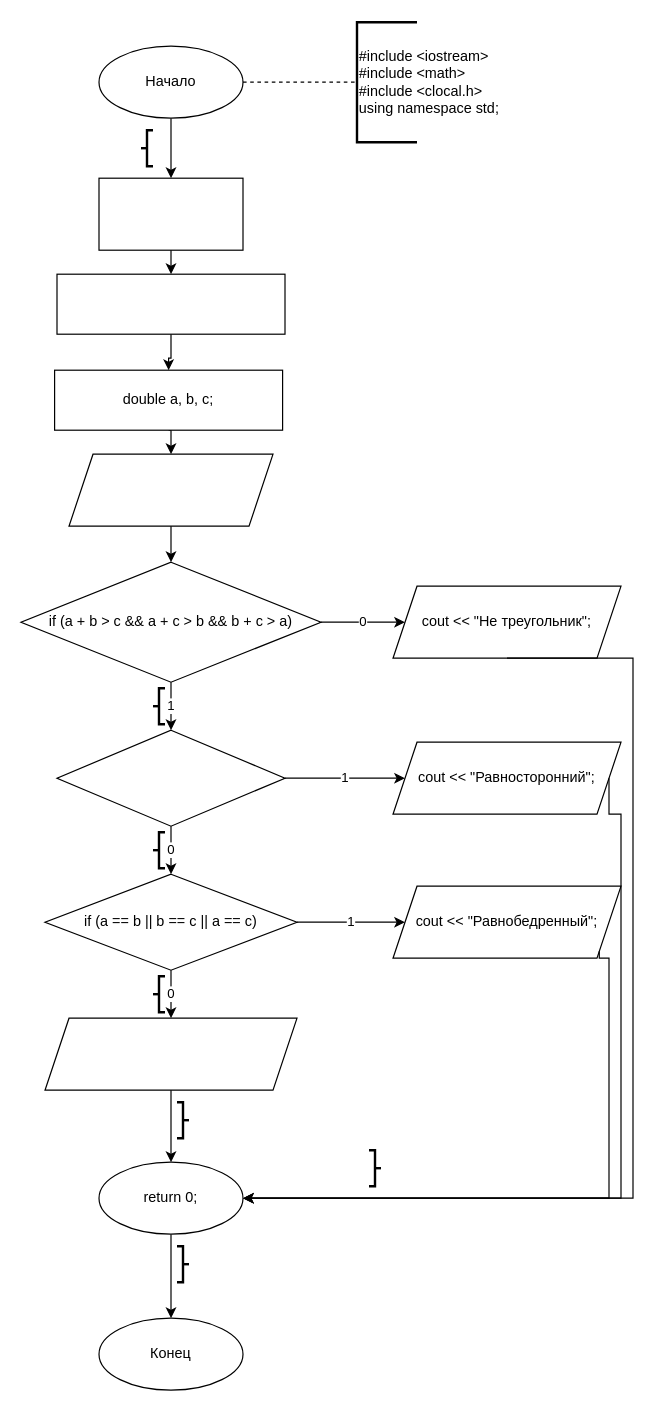
Some shapes in this 664 by 1411 pixel diagram are drawn without their labels. The centre of each missing label's shape, as x and y in pixels:
cin >> a >> b >> c;: (x=170, y=489)
cout << "Обычный треугольник";: (x=170, y=1053)
if (a == b && b == c): (x=170, y=777)
int main(): (x=170, y=213)
setlocale(LC_ALL, "Russian");: (x=170, y=303)
